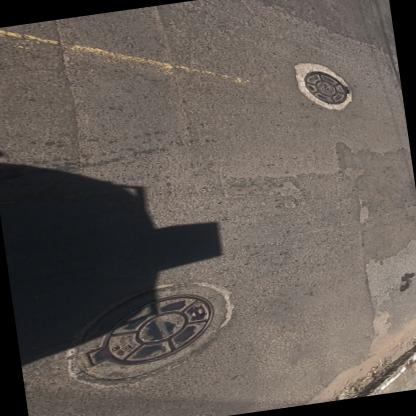manholes: (32, 273, 248, 399), (280, 58, 364, 117)
